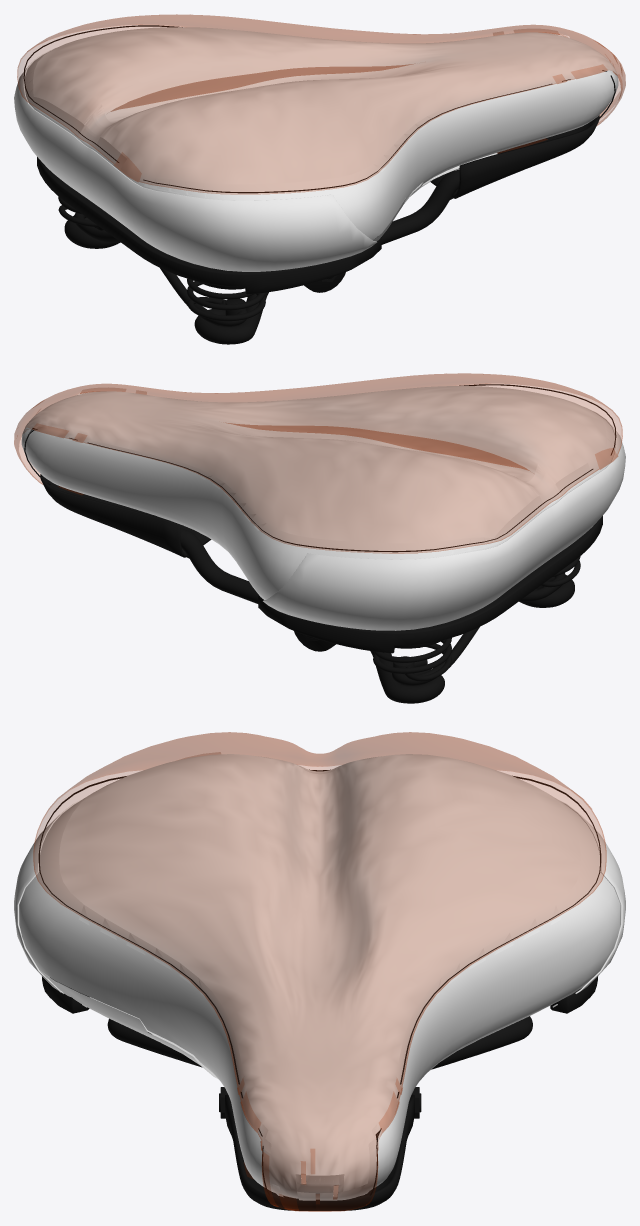
File: 7f8daa50-994e-4781-8064-c0876a5448c2.glb
3 views of the same model, one above another, from view 1: azimuth 30°, elevation 25°; view 2: azimuth 150°, elevation 25°; view 3: azimuth 270°, elevation 25° (orthographic). The views are drawn at different scales.
Parts seen in each view (by area): view 1: OBJ.027; view 2: OBJ.027; view 3: OBJ.027.
Part boxes in pixels (x1,y1,x2,y2): OBJ.027: [14, 14, 625, 344]; OBJ.027: [14, 373, 625, 703]; OBJ.027: [14, 732, 625, 1211].
Bounding box in the file's own units: 10.87 × 4.55 × 8.26.
